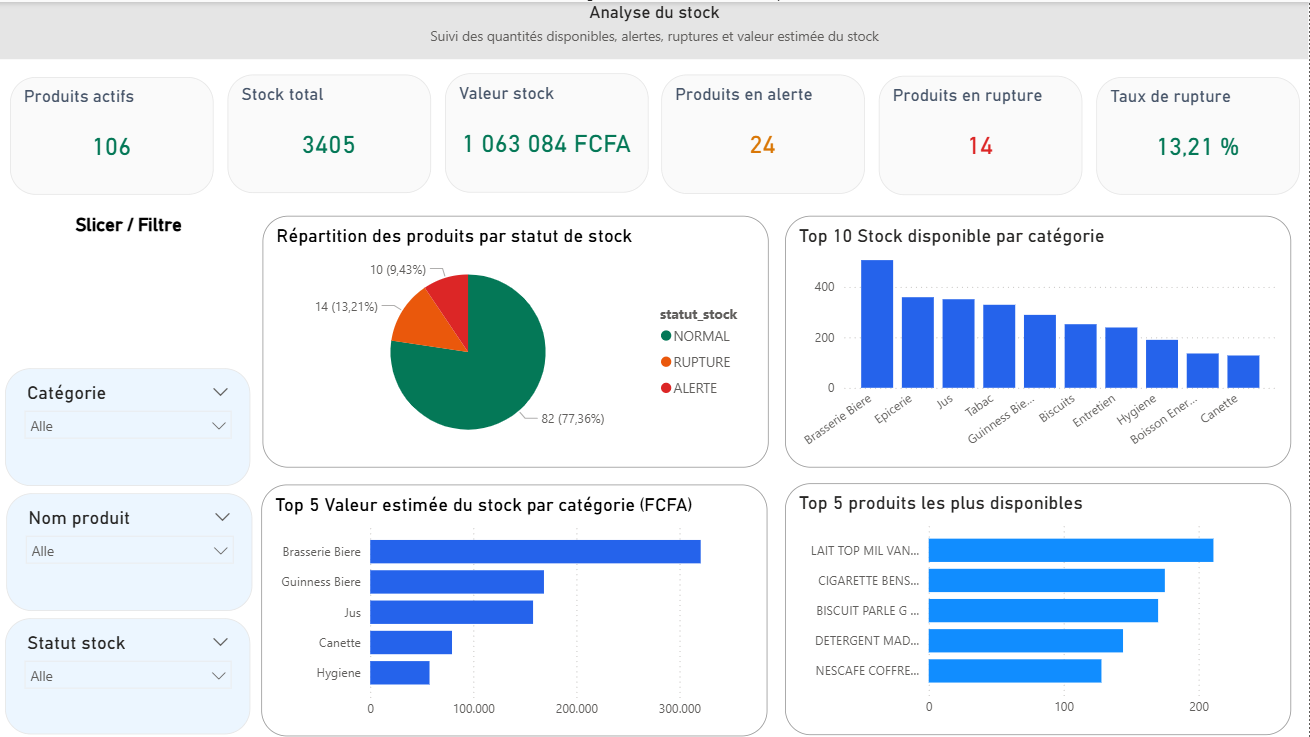

Layout of this report page (visuals, bound fields, positions):
{"tool":"powerbi","page":{"name":"Stock","canvas":[1280,720],"ordinal":4},"visuals":[{"type":"shape","title":"Analyse du stock","box":[0,0,1280.4,55.9],"z":0},{"type":"card","title":"Valeur stock","fields":{"Values":["_Mesures.Valeur Stock Affiche"]},"box":[434.9,69.6,199.1,116.9],"z":1000},{"type":"card","title":"Produits en alerte","fields":{"Values":["_Mesures.Produits en Alerte"]},"box":[647.3,71.1,199.1,116.9],"z":2000},{"type":"card","title":"Produits en rupture","fields":{"Values":["_Mesures.Produits en Rupture"]},"box":[859.6,72.4,199.1,116.9],"z":3000},{"type":"card","title":"Taux de rupture","fields":{"Values":["_Mesures.Taux Rupture Stock"]},"box":[1072,73.1,199.1,115.4],"z":4000},{"type":"card","title":"Stock total","fields":{"Values":["_Mesures.Stock Total"]},"box":[222.3,70.9,199.3,115.7],"z":5000},{"type":"pieChart","title":"Répartition des produits par statut de stock","fields":{"Category":["public vue_produits_stock.statut_stock"],"Y":["CountNonNull(public vue_produits_stock.produit_id)"]},"box":[256.8,209.2,495,246.7],"z":6000},{"type":"columnChart","title":"Top 10 Stock disponible par catégorie","fields":{"Category":["public vue_produits_stock.nom_categorie"],"Y":["Sum(public vue_produits_stock.stock_actuel)"]},"box":[768,209.2,495,246.7],"z":7000},{"type":"barChart","title":"Top 5 produits les plus disponibles","fields":{"Category":["public vue_produits_stock.nom_produit"],"Y":["Sum(public vue_produits_stock.stock_actuel)"]},"box":[768,471,495,246],"z":8000},{"type":"barChart","title":"Top 5 Valeur estimée du stock par catégorie (FCFA)","fields":{"Category":["public vue_produits_stock.nom_categorie"],"Y":["Sum(public vue_produits_stock.valeur_stock_estimee)"]},"box":[256,471.8,495,246.7],"z":9000},{"type":"shape","box":[64.9,190.4,141.4,54.8],"z":10000},{"type":"card","title":"Produits actifs","fields":{"Values":["_Mesures.Produits Actifs"]},"box":[9.8,73.7,199.3,114.9],"z":11000},{"type":"slicer","title":"Filter","fields":{"Values":["public dim_produits.nom_produit"]},"box":[5.8,480.4,240.9,115.4],"z":12000},{"type":"slicer","title":"Filter","fields":{"Values":["public dim_categories.nom_categorie"]},"box":[5.1,358.4,240.4,115.2],"z":13000},{"type":"slicer","title":"Filter","fields":{"Values":["public vue_produits_stock.statut_stock"]},"box":[5.3,603.3,240.3,113.9],"z":14000}]}

Visuals, with their boxes in screenshot pixels (x1, y1, x2, y2), scaled from the page's 1280x720 canvas onto the 1310x737 screenshot:
"Analyse du stock" shape: box=[0, 0, 1309, 57]
"Valeur stock" card: box=[445, 71, 649, 191]
"Produits en alerte" card: box=[662, 73, 866, 192]
"Produits en rupture" card: box=[880, 74, 1084, 194]
"Taux de rupture" card: box=[1097, 75, 1301, 193]
"Stock total" card: box=[228, 73, 431, 191]
"Répartition des produits par statut de stock" pieChart: box=[263, 214, 769, 467]
"Top 10 Stock disponible par catégorie" columnChart: box=[786, 214, 1293, 467]
"Top 5 produits les plus disponibles" barChart: box=[786, 482, 1293, 734]
"Top 5 Valeur estimée du stock par catégorie (FCFA)" barChart: box=[262, 483, 769, 735]
shape: box=[66, 195, 211, 251]
"Produits actifs" card: box=[10, 75, 214, 193]
"Filter" slicer: box=[6, 492, 252, 610]
"Filter" slicer: box=[5, 367, 251, 485]
"Filter" slicer: box=[5, 618, 251, 734]
